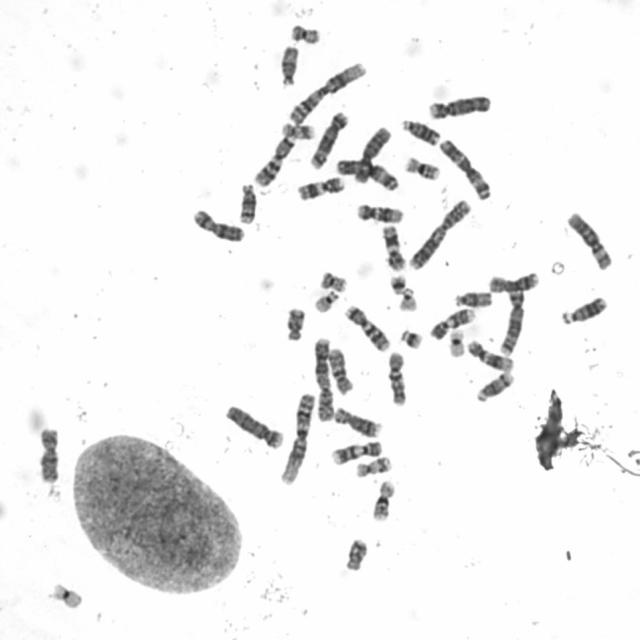A1: (284, 57, 369, 126), (277, 388, 317, 486)
A2: (406, 194, 473, 271), (310, 333, 337, 422)
A3: (435, 133, 494, 201), (332, 154, 402, 192)
B4: (222, 400, 286, 450), (425, 90, 493, 120)
B5: (306, 106, 351, 170), (496, 284, 527, 356)
C10: (324, 343, 356, 396), (384, 346, 409, 407)
C11: (294, 172, 346, 202), (378, 220, 408, 272)
C12: (463, 335, 516, 372), (353, 199, 406, 224)
C6: (564, 206, 614, 271), (351, 121, 393, 185)
C7: (250, 130, 298, 188), (342, 300, 392, 353)
C8: (331, 402, 383, 438), (485, 267, 541, 294)
C9: (427, 303, 478, 341), (328, 436, 385, 466)
D13: (558, 291, 608, 325), (398, 115, 442, 147)
D14: (472, 367, 516, 404), (235, 179, 258, 225)
D15: (277, 40, 301, 88), (451, 286, 494, 308)
E16: (368, 475, 398, 523), (401, 152, 442, 182)
E17: (352, 452, 393, 478), (278, 118, 317, 140)
E18: (341, 533, 370, 573), (282, 302, 308, 343)
F19: (46, 577, 85, 610), (445, 325, 467, 359)
F20: (286, 20, 322, 45), (317, 266, 350, 293)
G21: (396, 324, 426, 350), (386, 270, 408, 296)
G22: (310, 286, 340, 314), (394, 284, 420, 312)
X: (189, 204, 247, 243), (33, 422, 62, 484)
